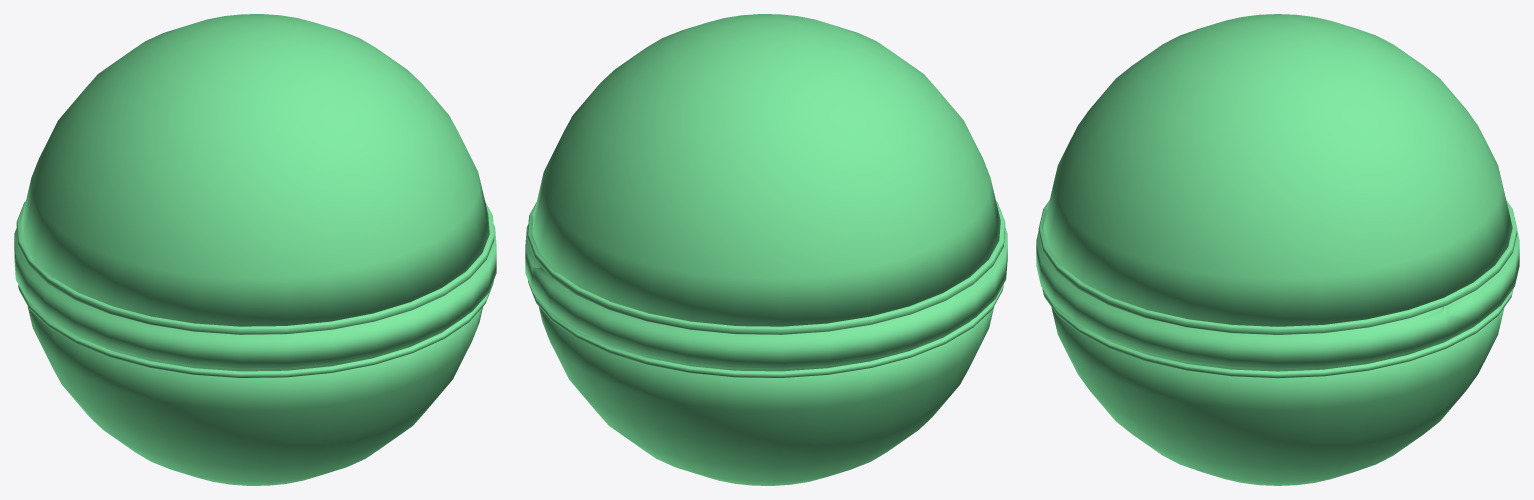
The model's file is Plastic Ball.fbx.
3 views of the same model, side by side, from view 1: azimuth 30°, elevation 25°; view 2: azimuth 150°, elevation 25°; view 3: azimuth 270°, elevation 25° (orthographic).
Visible parts, largest first — view 1: Sphere; view 2: Sphere; view 3: Sphere.
Part boxes in pixels (x1,y1,x2,y2): Sphere: (14, 14, 496, 485); Sphere: (525, 14, 1007, 485); Sphere: (1036, 14, 1519, 485).
Bounding box in the file's own units: 90.08 × 88 × 90.08.
